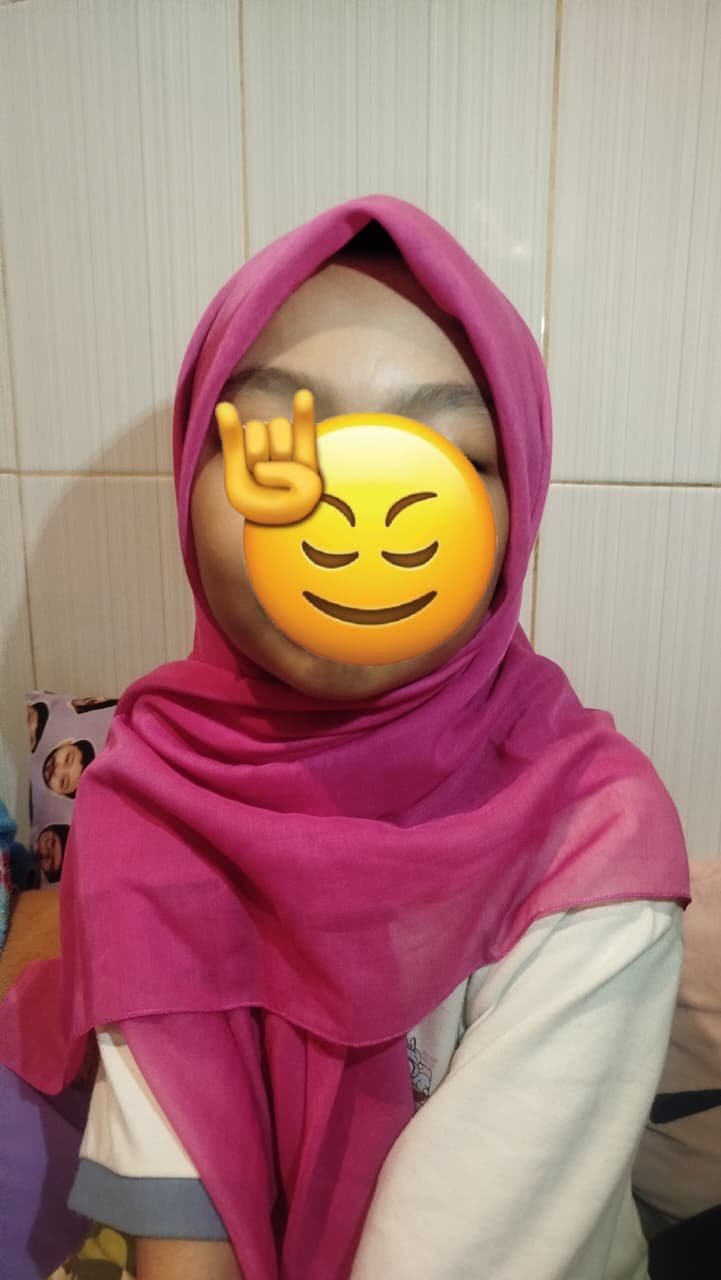kerudung_benar: (171, 202, 587, 914)
